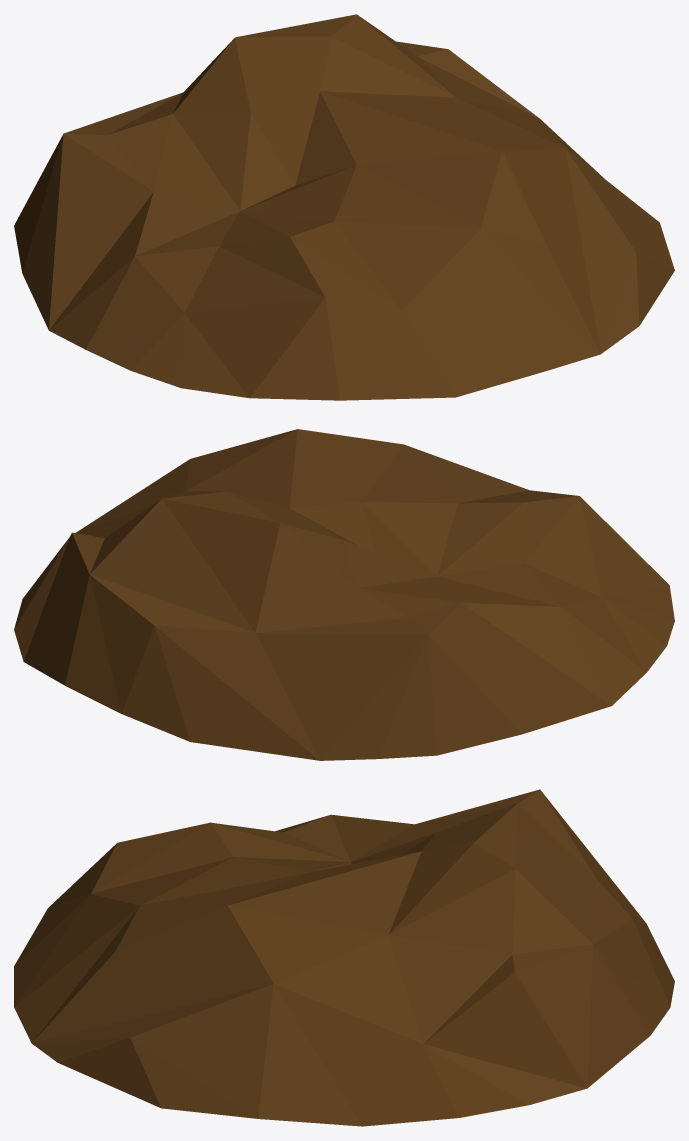
Rendered from dirtmound.fbx.
3 views of the same model, one above another, from view 1: azimuth 30°, elevation 25°; view 2: azimuth 150°, elevation 25°; view 3: azimuth 270°, elevation 25° (orthographic). The views are drawn at different scales.
Parts seen in each view (by area): view 1: dirtmound; view 2: dirtmound; view 3: dirtmound.
Boxes of the visible parts, <box> form: dirtmound: <box>14,14,674,400</box>; dirtmound: <box>14,429,674,760</box>; dirtmound: <box>14,789,674,1126</box>.
Size of the model in its own units: 1.28 by 0.3812 by 1.28.
